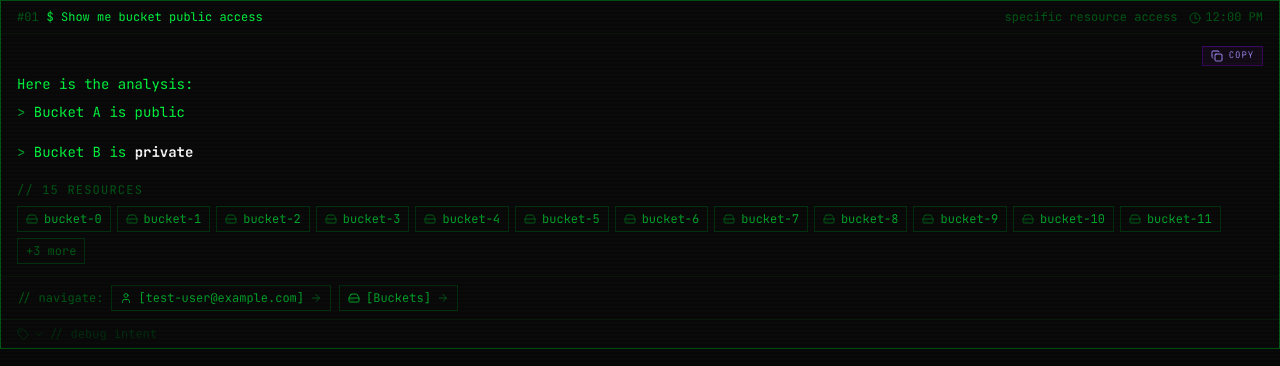
ResultCard › handles resources exceeding CHIP_LIMIT
Expected: the text "bucket-0" is shown, [44, 210, 102, 226]
Expected: the text "bucket-11" is shown, [1147, 210, 1212, 226]
Note: Should have a button to show more (+3 more)
Click the button "+3 more".
click(51, 250)  # box [17, 238, 85, 264]
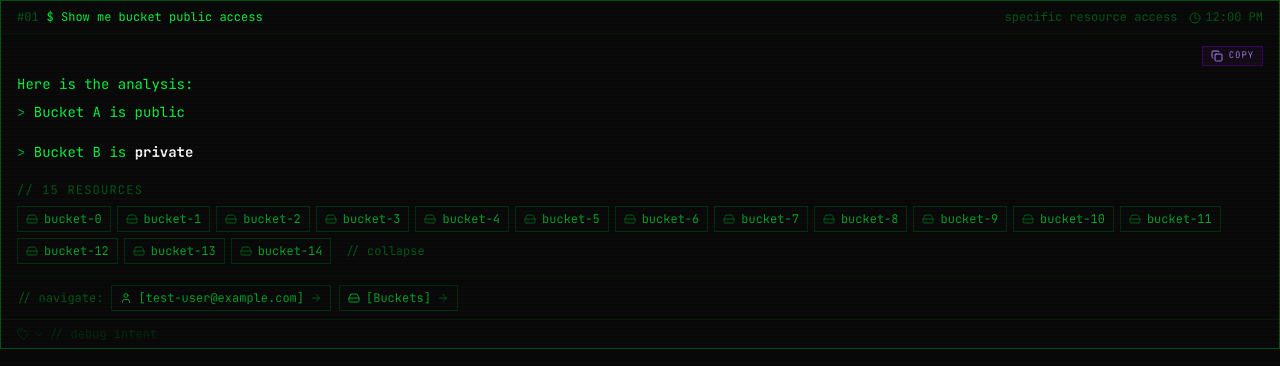
Now the text "bucket-12" is shown, box [44, 242, 109, 258]
Note: And have a "// collapse" button
Click the button "// collapse".
click(385, 250)  # box [337, 238, 433, 264]
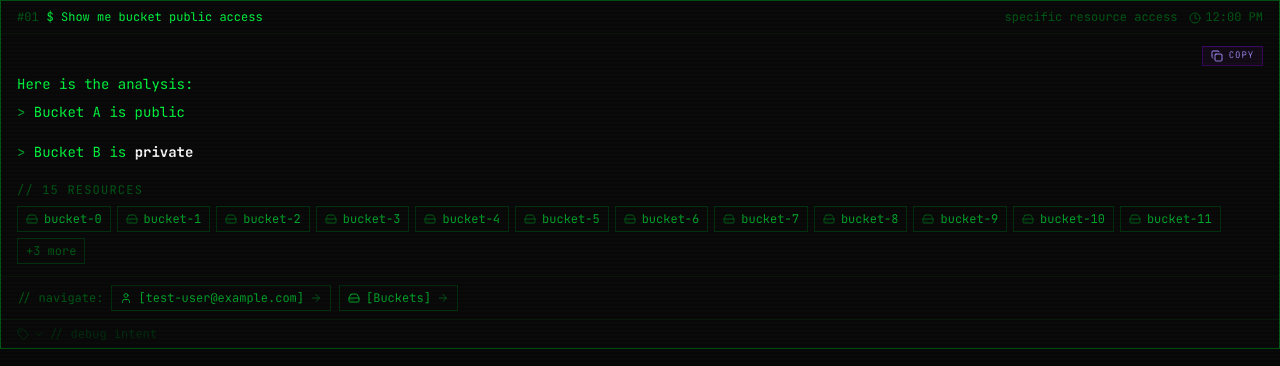
Now the link "bucket-12" is gone
